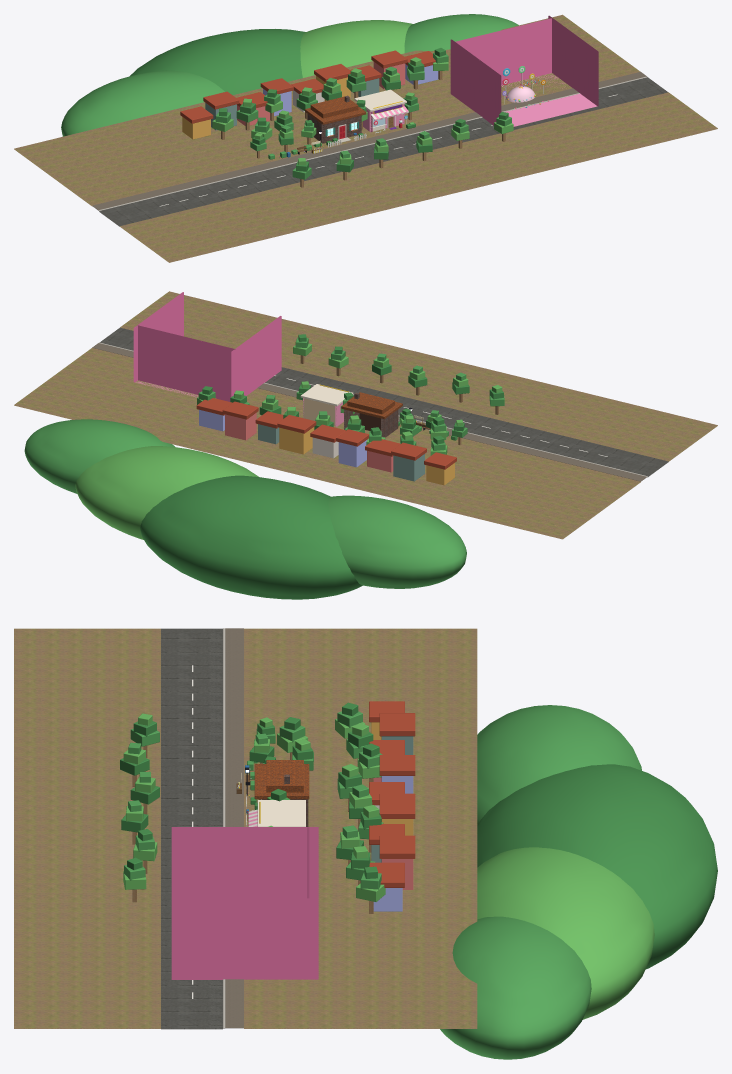
Rendered from street.glb.
3 views of the same model, one above another, from view 1: azimuth 30°, elevation 25°; view 2: azimuth 150°, elevation 25°; view 3: azimuth 270°, elevation 25° (orthographic). The views are drawn at different scales.
Visible parts, largest first — view 1: GrassFar, Grass, Road, Hill1, Hill0, Hill2, FanBack, Sidewalk, FanSide-1, Hill3, FanSide1, FanFloor (+8 smaller); view 2: Grass, GrassFar, Hill1, Hill0, Hill2, Road, Hill3, FanBack, FanSide-1, Sidewalk, FanSide1, FarHouse5 (+6 smaller); view 3: Grass, GrassFar, Hill1, Road, Hill2, Hill3, FanSide1, FanSide-1, Hill0, Sidewalk, ShopCeil, HouseRoof2 (+7 smaller).
Boxes of the visible parts, left/top/right/bottom form: GrassFar: left=120, top=92, right=717, bottom=262; Grass: left=14, top=14, right=640, bottom=205; Road: left=99, top=77, right=667, bottom=226; Hill1: left=130, top=29, right=305, bottom=95; Hill0: left=61, top=70, right=224, bottom=136; Hill2: left=300, top=20, right=412, bottom=77; FanBack: left=455, top=18, right=551, bottom=85; Sidewalk: left=92, top=72, right=646, bottom=210; FanSide-1: left=450, top=39, right=501, bottom=125; Hill3: left=404, top=14, right=518, bottom=52; FanSide1: left=548, top=15, right=598, bottom=106; FanFloor: left=501, top=73, right=597, bottom=126; Grass: left=14, top=348, right=640, bottom=539; GrassFar: left=120, top=291, right=717, bottom=461; Hill1: left=140, top=475, right=362, bottom=599; Hill0: left=328, top=495, right=466, bottom=588; Hill2: left=75, top=446, right=258, bottom=539; Road: left=100, top=327, right=668, bottom=477; Hill3: left=24, top=419, right=175, bottom=493; FanBack: left=137, top=325, right=235, bottom=401; FanSide-1: left=231, top=316, right=281, bottom=396; Sidewalk: left=92, top=343, right=646, bottom=481; FanSide1: left=133, top=292, right=183, bottom=382; FarHouse5: left=279, top=427, right=314, bottom=454; Grass: left=244, top=628, right=477, bottom=1028; GrassFar: left=14, top=628, right=160, bottom=1028; Hill1: left=477, top=764, right=717, bottom=969; Road: left=161, top=628, right=222, bottom=1029; Hill2: left=477, top=847, right=654, bottom=1019; Hill3: left=440, top=916, right=591, bottom=1059; FanSide1: left=171, top=898, right=318, bottom=979; FanSide-1: left=171, top=827, right=318, bottom=897; Hill0: left=477, top=705, right=641, bottom=826; Sidewalk: left=225, top=628, right=243, bottom=1028; ShopCeil: left=257, top=800, right=305, bottom=826; HouseRoof2: left=266, top=760, right=303, bottom=792.
Size of the model in its own units: 90 by 21.1 by 67.
73 materials, 7 textured.
